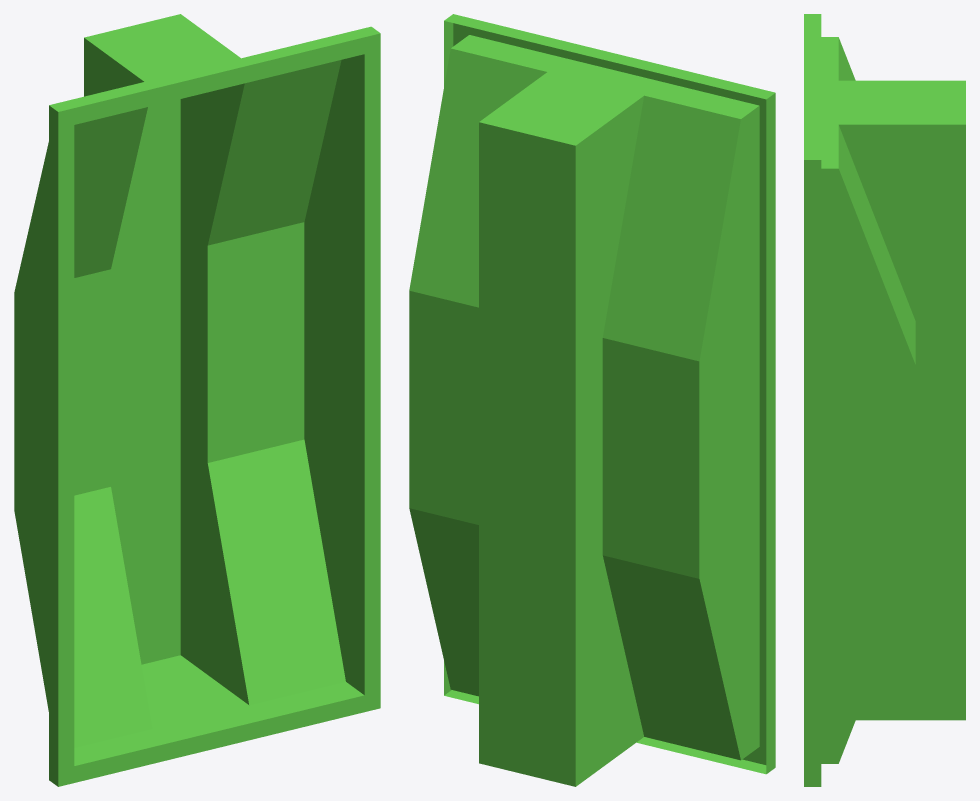
The model's file is Wall_A_4x2m.FBX.
The picture shows the model from 3 angles, left to right: view 1: azimuth 30°, elevation 25°; view 2: azimuth 150°, elevation 25°; view 3: azimuth 270°, elevation 25°; orthographic projection. The views are drawn at different scales.
Visible parts, largest first — view 1: Wall_A_4x2m; view 2: Wall_A_4x2m; view 3: Wall_A_4x2m.
Part boxes in pixels (x1,y1,x2,y2): Wall_A_4x2m: (14,14,380,786); Wall_A_4x2m: (409,14,775,786); Wall_A_4x2m: (804,14,965,786).
Size of the model in its own units: 200 by 400 by 93.59.
